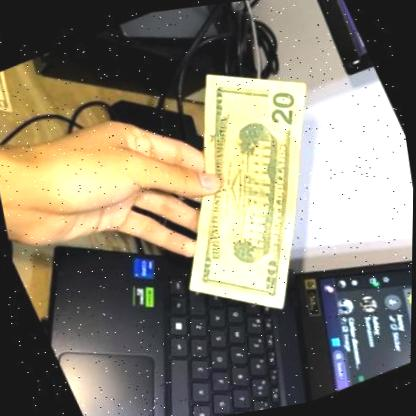twenty-back: (92, 24, 401, 354)
